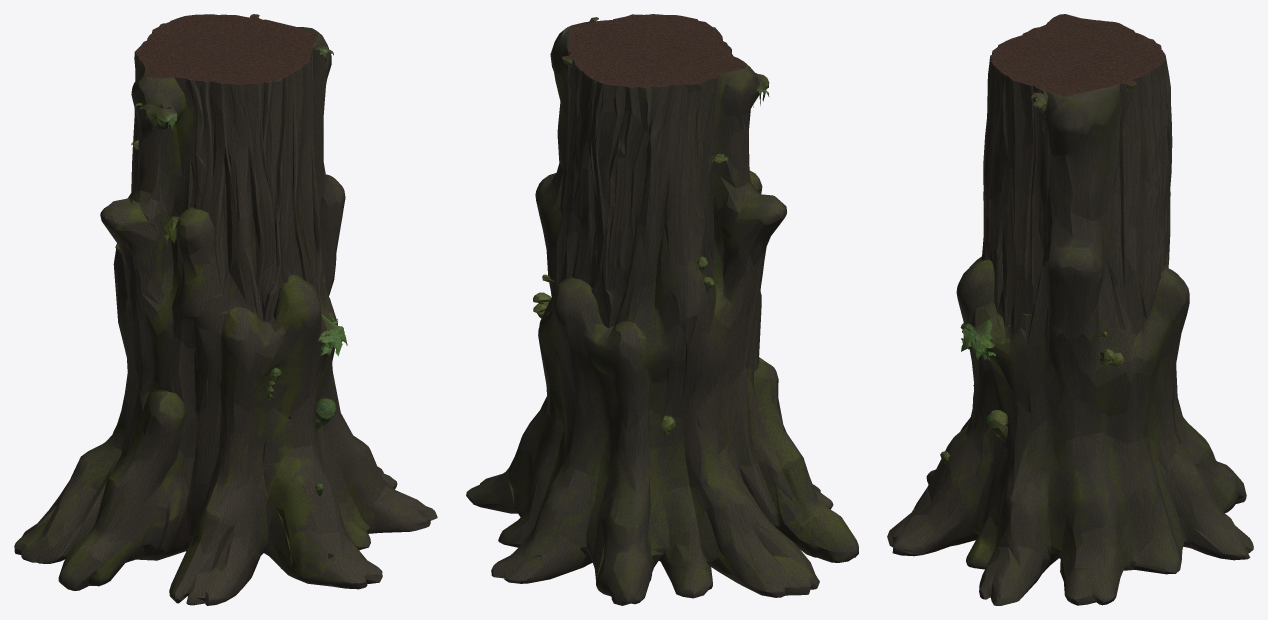
The model's file is trunk_giant_a.glb.
3 views of the same model, side by side, from view 1: azimuth 30°, elevation 25°; view 2: azimuth 150°, elevation 25°; view 3: azimuth 270°, elevation 25° (orthographic). The views are drawn at different scales.
Size of the model in its own units: 1.48 by 1.9 by 1.35.
Materials: 1 (1 with a texture image).
